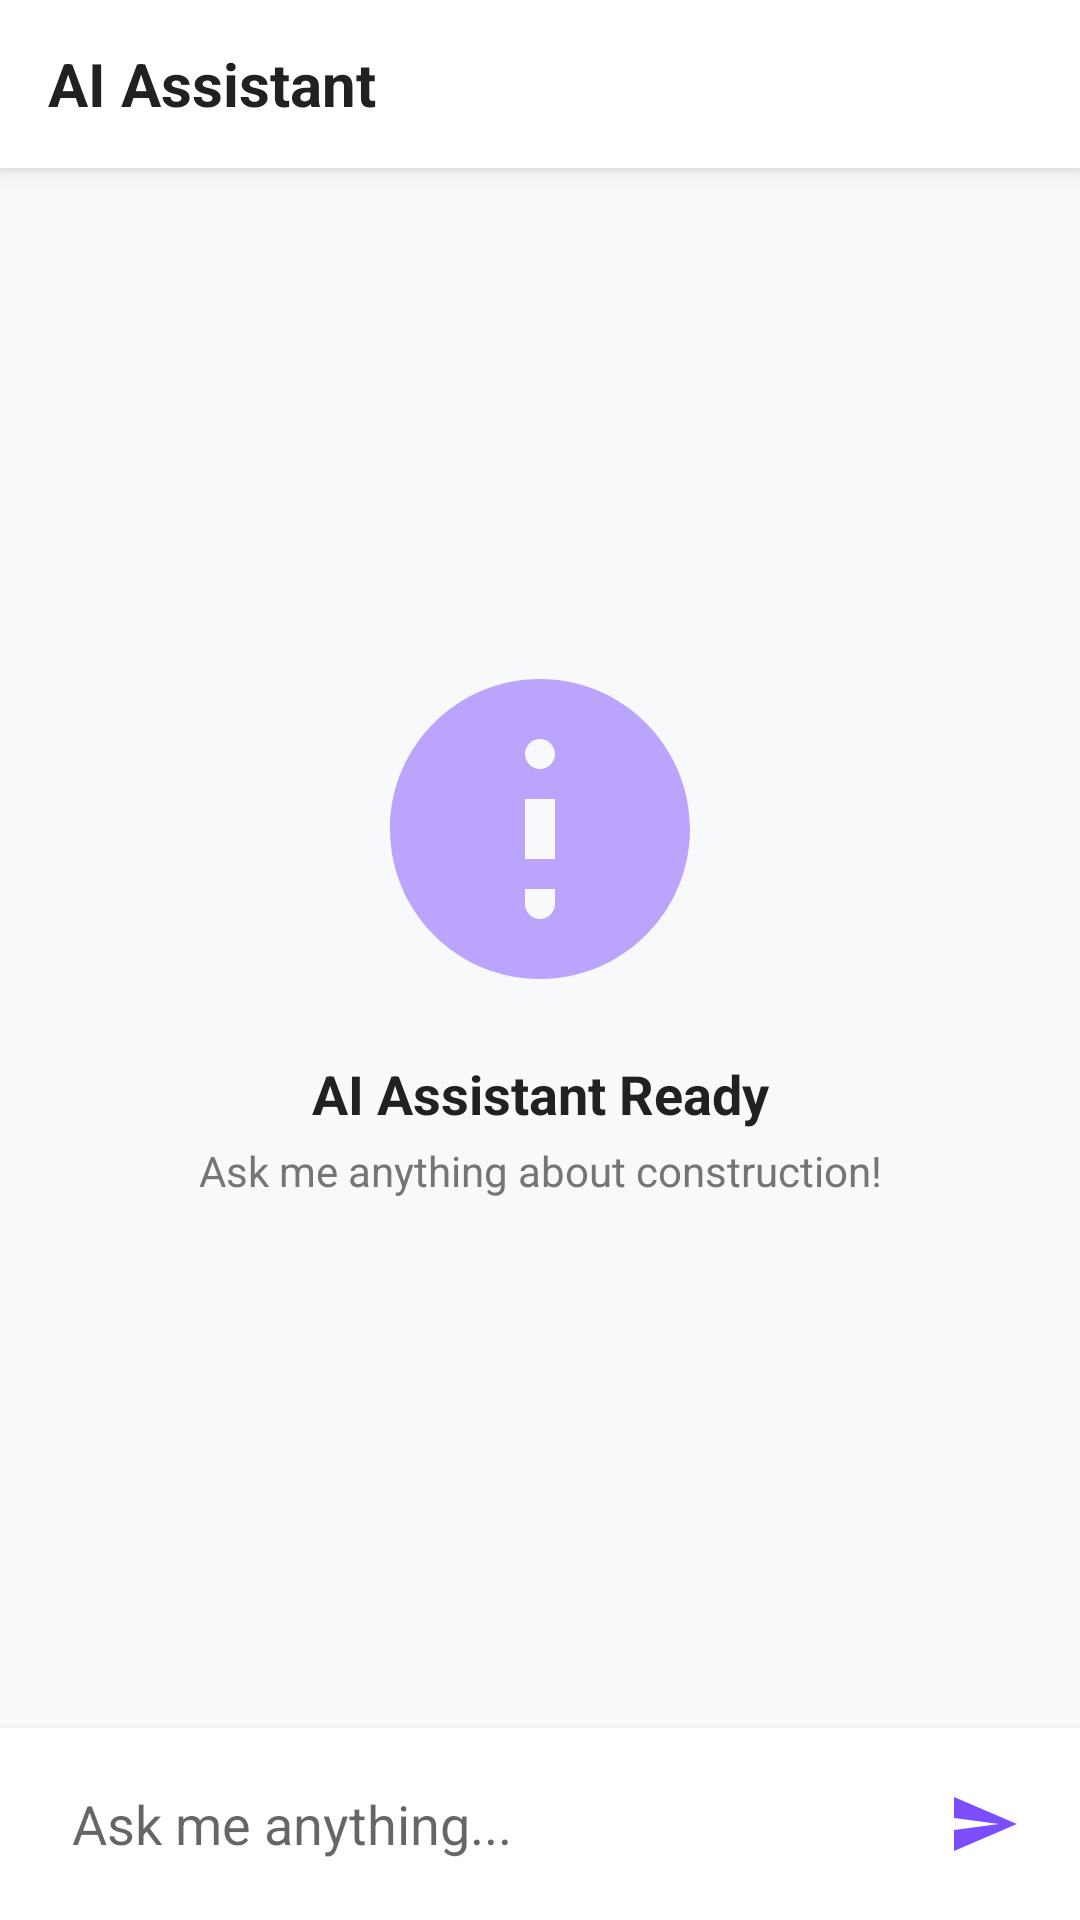

Locate icon controls on the screen. Image size 1080px x 1920px, boxes as (x1, y1, x2, y2).
Send: (954, 1797, 1017, 1851)
